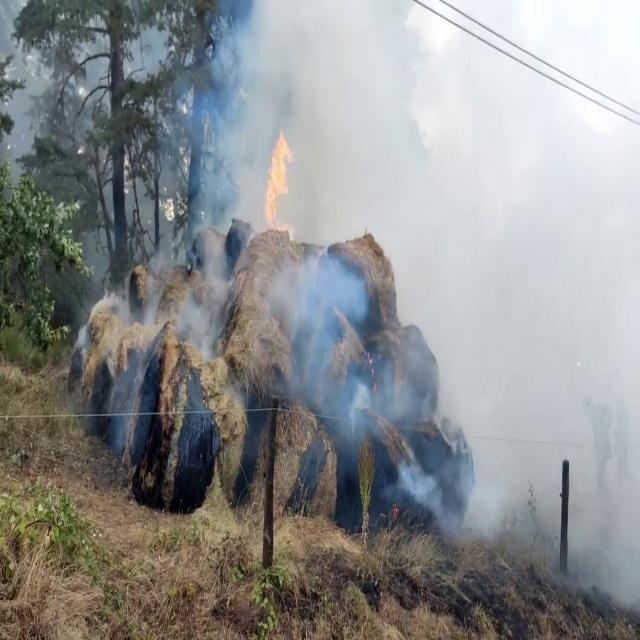Fire: (264, 121, 294, 239)
Smoke: (84, 2, 462, 470), (448, 6, 640, 614)
